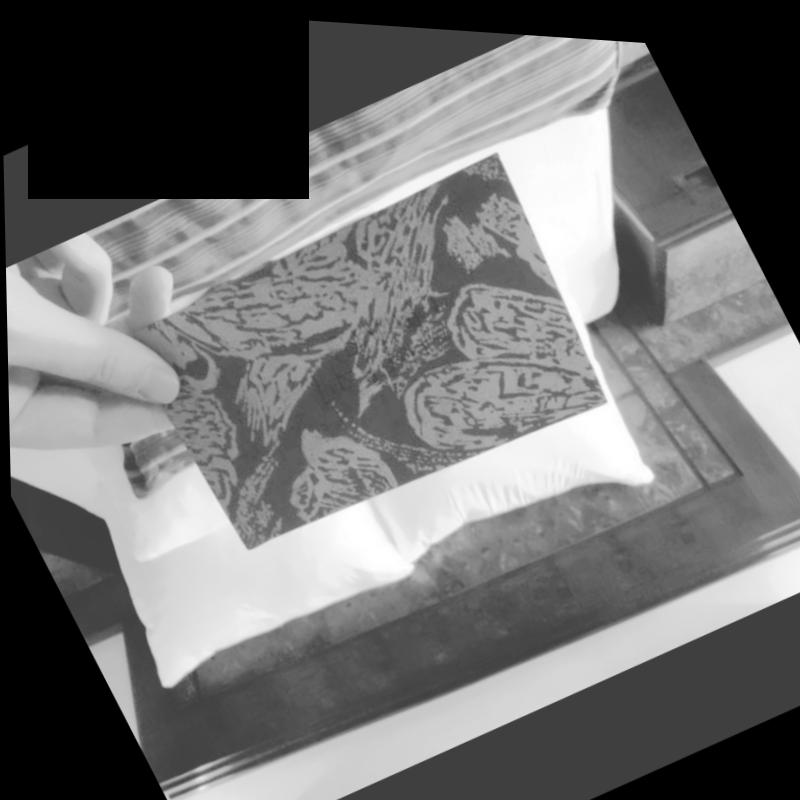pillow: (302, 229, 668, 589), (69, 375, 416, 696), (66, 392, 228, 569)
